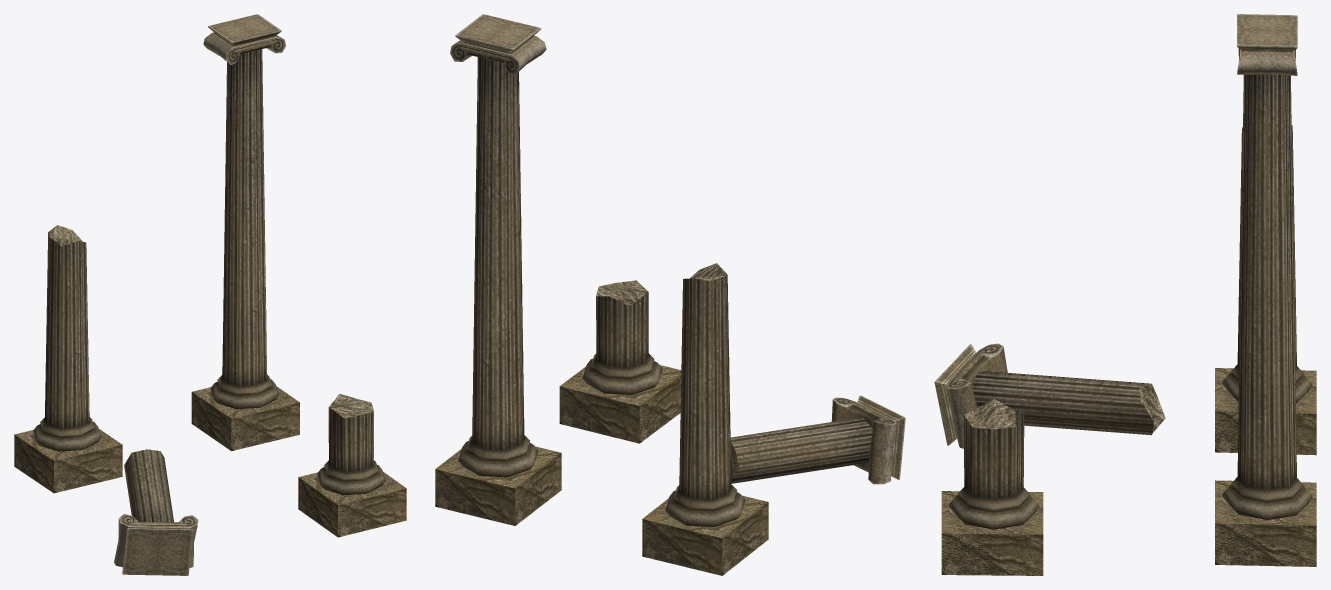
File: ancient_ruins_02.FBX
3 views of the same model, side by side, from view 1: azimuth 30°, elevation 25°; view 2: azimuth 150°, elevation 25°; view 3: azimuth 270°, elevation 25° (orthographic). The views are drawn at different scales.
Parts seen in each view (by area): view 1: Object065, Object066, Object068, Object067; view 2: Object065, Object066, Object068, Object067; view 3: Object065, Object068, Object067, Object066.
Part boxes in pixels (left/top/right/bottom): Object065: left=191, top=14, right=299, bottom=451; Object066: left=14, top=225, right=122, bottom=493; Object068: left=298, top=393, right=406, bottom=537; Object067: left=114, top=449, right=198, bottom=575; Object065: left=435, top=14, right=561, bottom=525; Object066: left=642, top=263, right=768, bottom=575; Object068: left=559, top=280, right=681, bottom=443; Object067: left=730, top=395, right=905, bottom=484; Object065: left=1215, top=14, right=1316, bottom=566; Object068: left=941, top=399, right=1043, bottom=575; Object067: left=934, top=343, right=1165, bottom=448; Object066: left=1215, top=125, right=1316, bottom=455.
Size of the model in its own units: 969 by 933 by 1425.
1 material, 1 textured.
